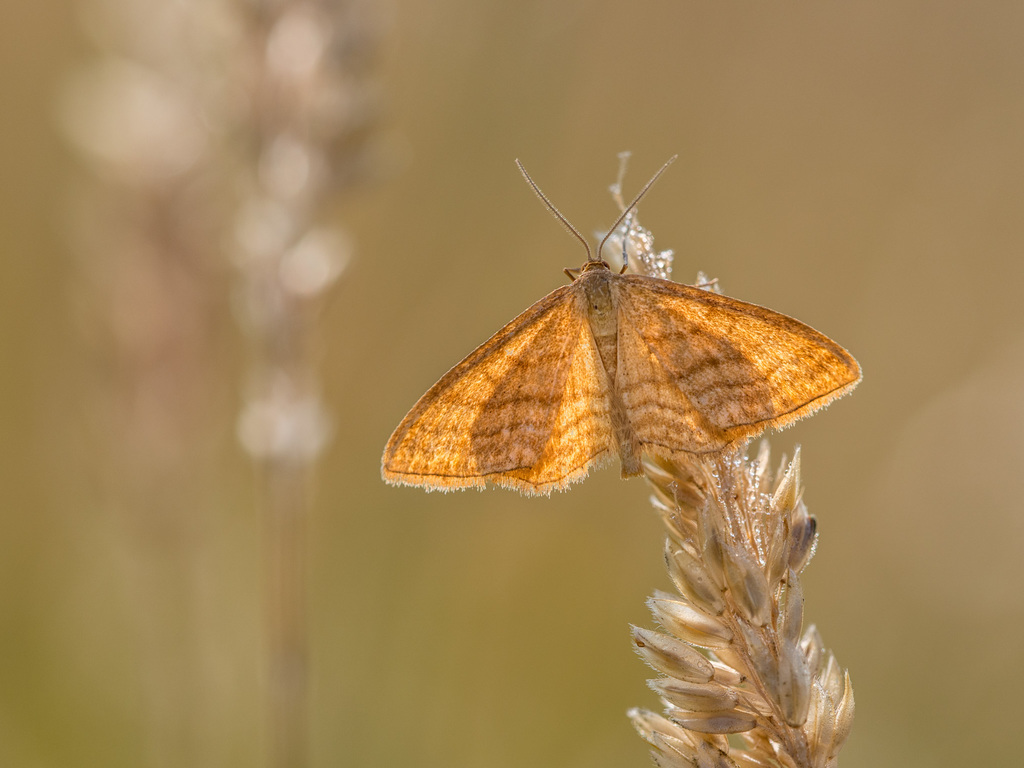Butterfly: (358, 241, 902, 497)
